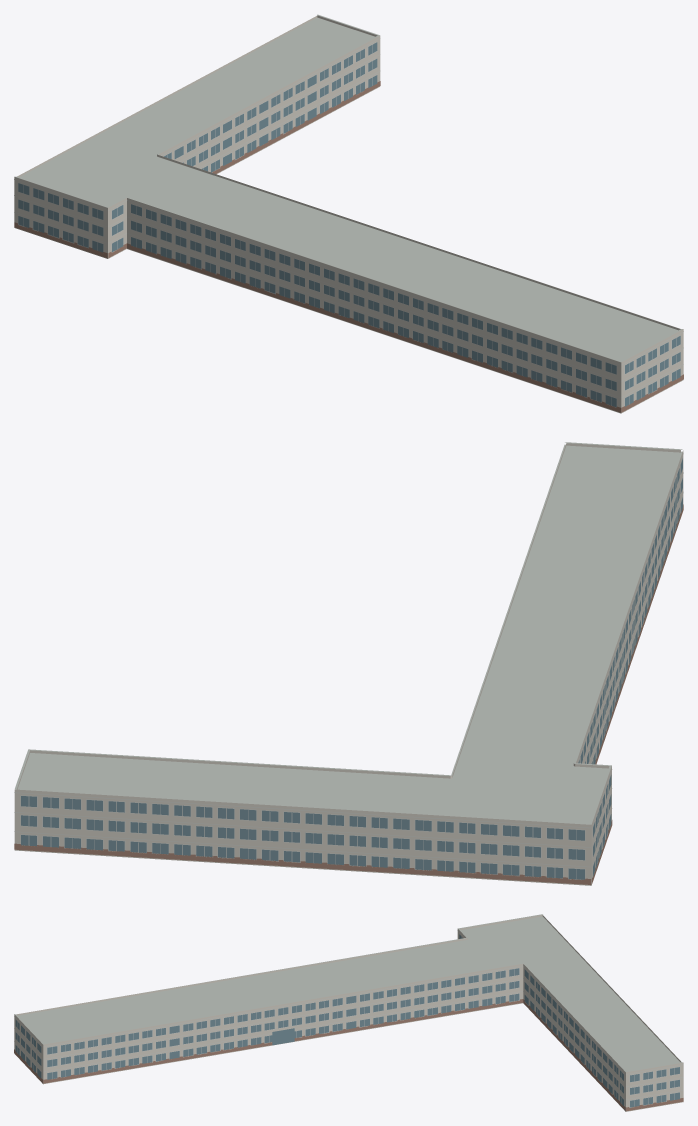
Rendered from public-9b75f8f8-36fd-447e-82f2-445bab864146.glb.
The picture shows the model from 3 angles, top to bottom: view 1: azimuth 30°, elevation 25°; view 2: azimuth 150°, elevation 25°; view 3: azimuth 270°, elevation 25°; orthographic projection. The views are drawn at different scales.
Parts seen in each view (by area): view 1: public-9b75f8f8-36fd-447e-82f2-445bab864146; view 2: public-9b75f8f8-36fd-447e-82f2-445bab864146; view 3: public-9b75f8f8-36fd-447e-82f2-445bab864146.
Boxes of the visible parts, <box> form: public-9b75f8f8-36fd-447e-82f2-445bab864146: <box>14,14,683,413</box>; public-9b75f8f8-36fd-447e-82f2-445bab864146: <box>14,442,683,885</box>; public-9b75f8f8-36fd-447e-82f2-445bab864146: <box>14,914,683,1111</box>.
Bounding box in the file's own units: 78.51 × 9.15 × 140.
